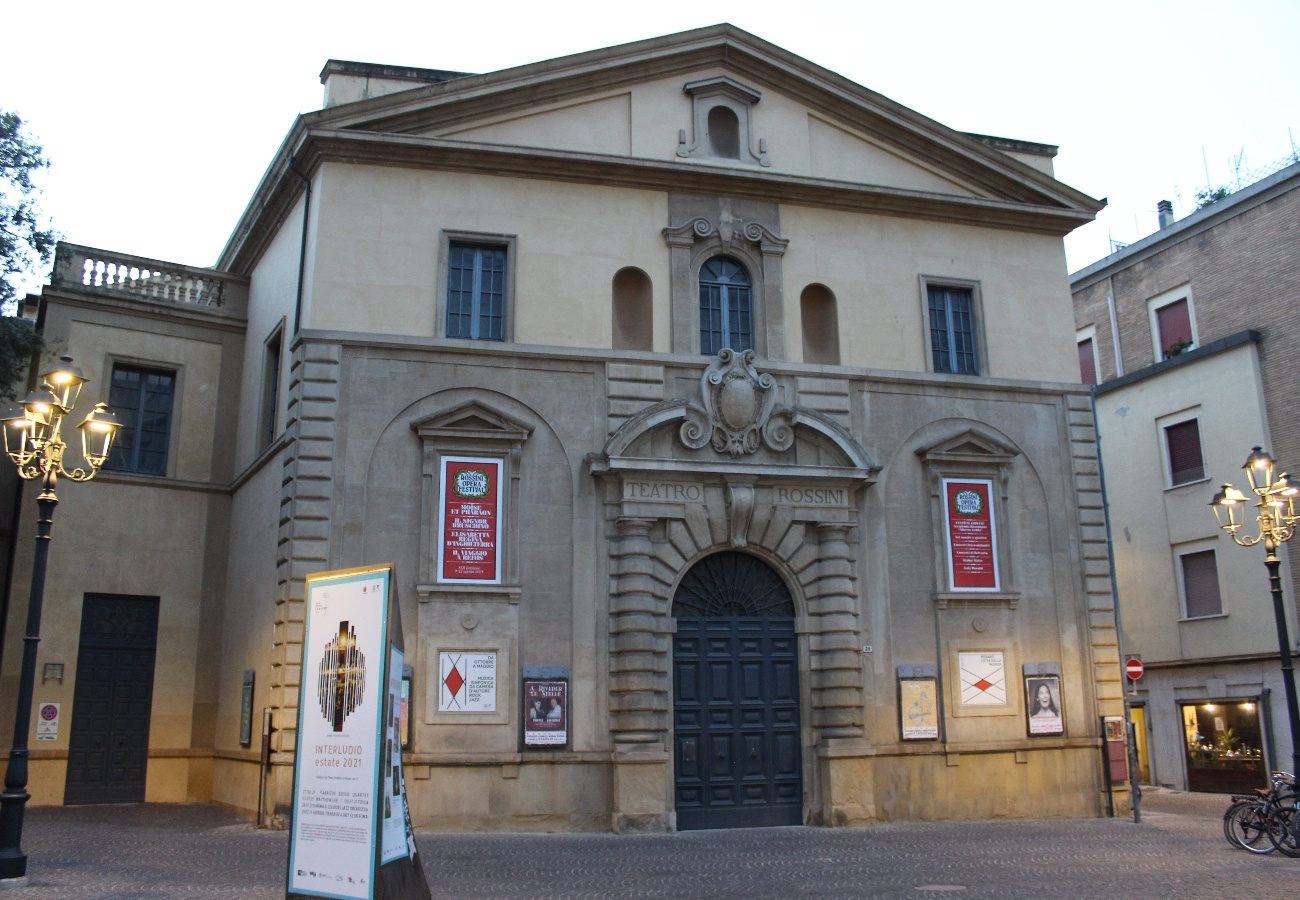Teatro Rossini: (291, 21, 1128, 825)
